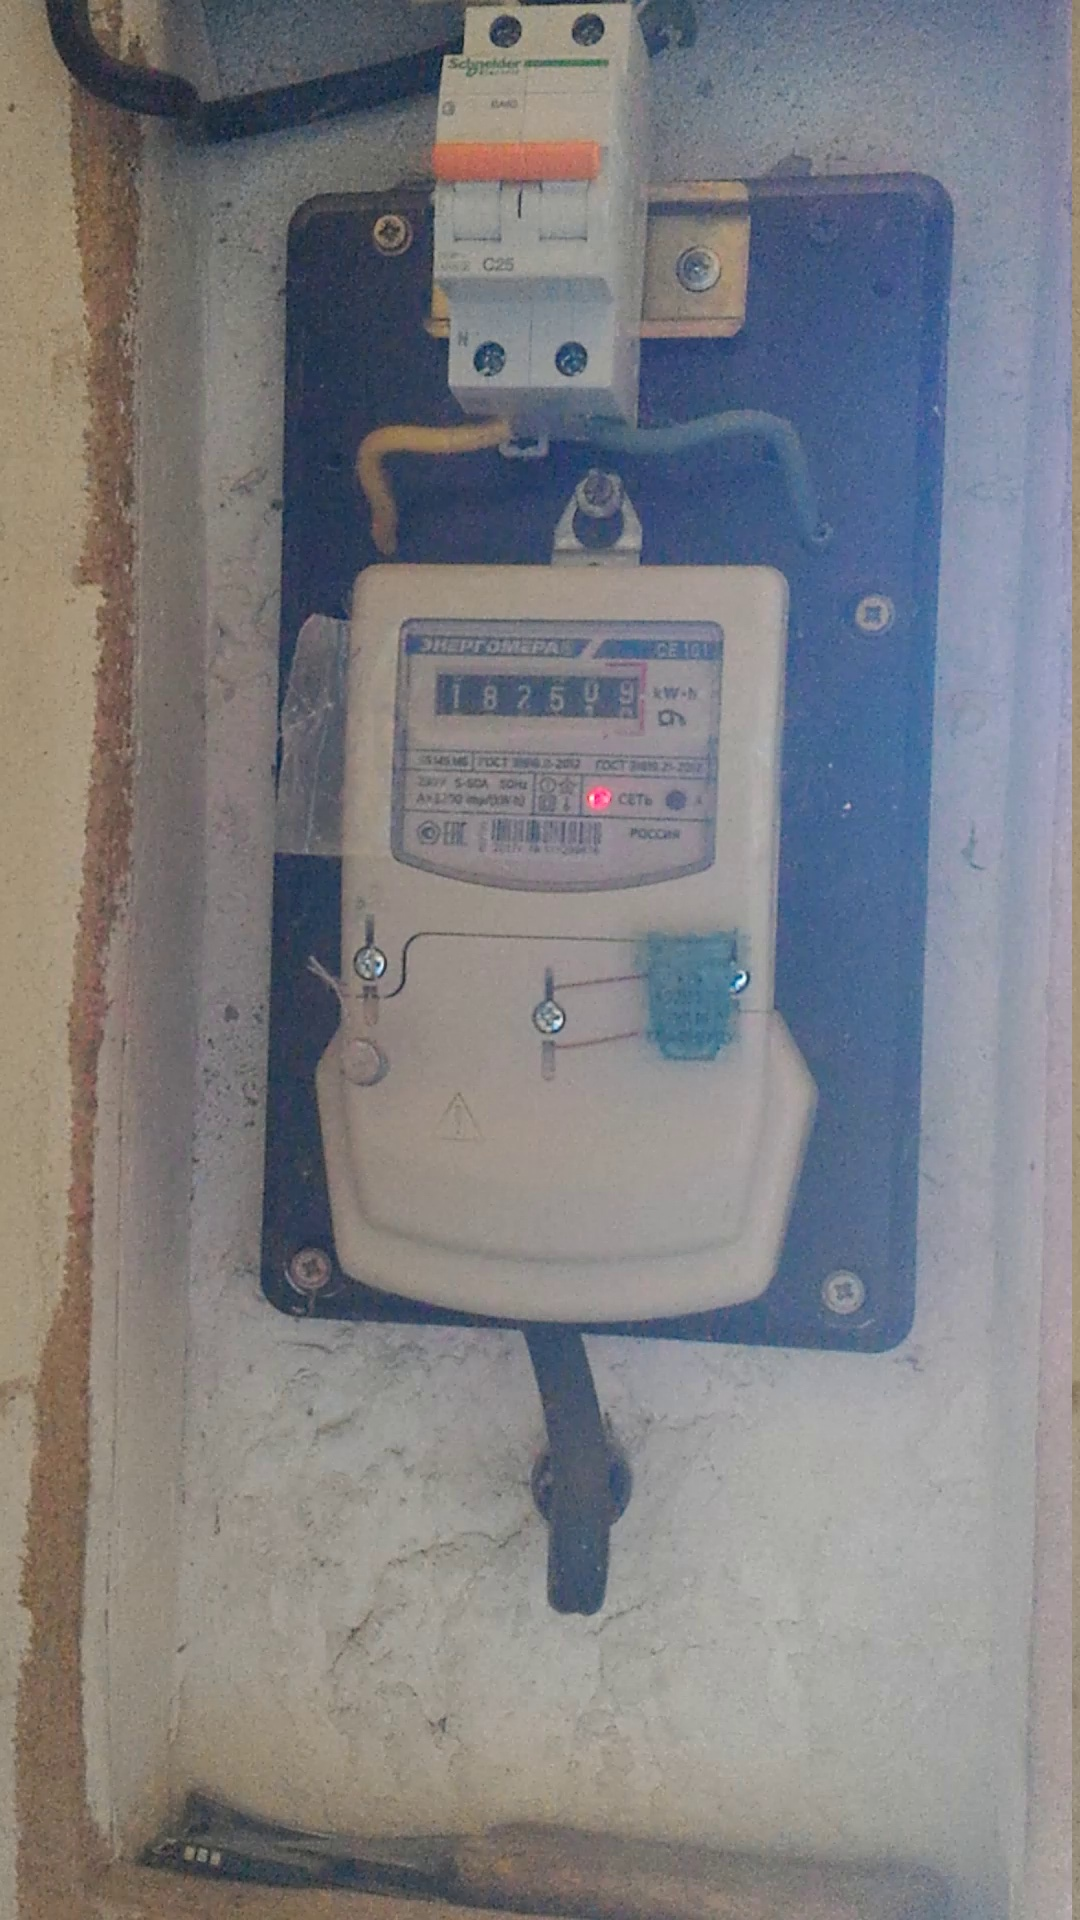counter: (320, 568, 795, 1319)
counter_screen: (434, 670, 642, 721)
